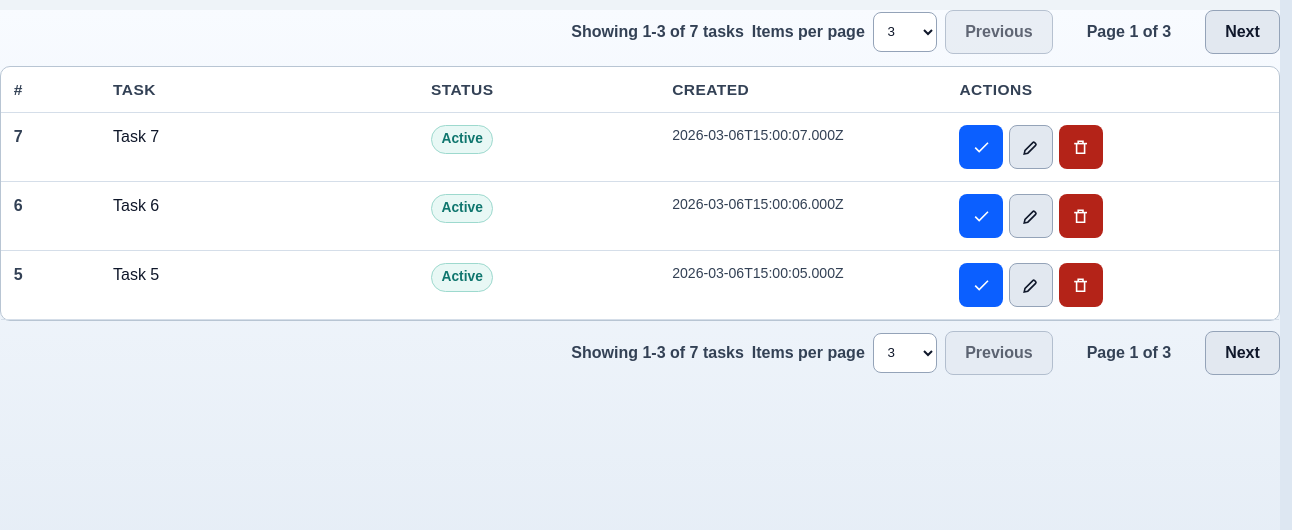
TodoList › paginates sorted rows and exposes page indicators with next/previous controls
The width and height of the screenshot is (1292, 530).
Expected: the 1st text "Page 1 of 3" is shown, [1087,23,1171,40]
Expected: the button with aria-label "Previous page" is disabled, [945,10,1053,54]
Click the button with aria-label "Next page".
click(1242, 32)  # box [1205,10,1280,54]
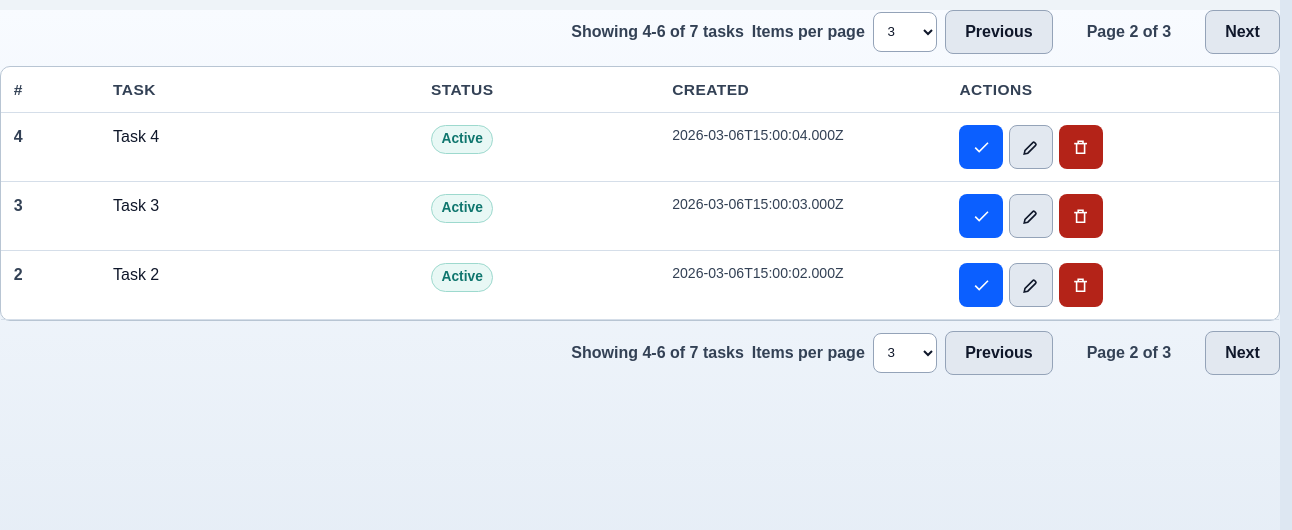
Expected: the 1st text "Page 2 of 3" is shown, [1087,23,1171,40]
Expected: the text "Task 4" is shown, [113,128,159,145]
Expected: the text "Task 3" is shown, [113,197,159,214]
